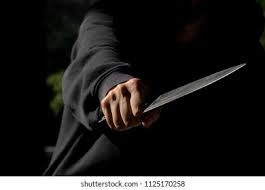knife: (99, 61, 247, 122)
